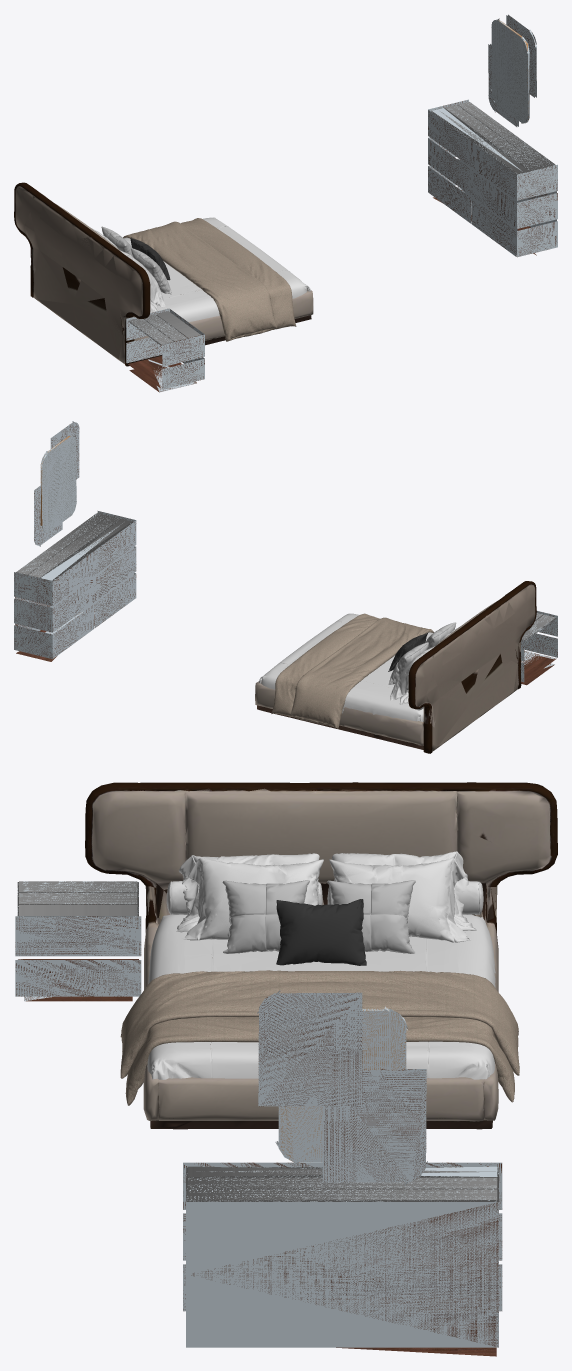
The model's file is turkish-room.glb.
3 renders of one model, top to bottom at view 1: azimuth 30°, elevation 25°; view 2: azimuth 150°, elevation 25°; view 3: azimuth 270°, elevation 25°, orthographic. The views are drawn at different scales.
Visible parts, largest first — view 1: SketchUp_Instance_0, CEWSBVR0160, group_28, group_19, group_3, CEWSBVR0161.001, group_15, group_18, group_22, group_17, group_16, group_21 (+12 smaller); view 2: SketchUp_Instance_0, CEWSBVR0160, group_28, group_19, CEWSBVR0161, group_22, group_15, group_18, group_16, group_17, group_21, group_31 (+10 smaller); view 3: SketchUp_Instance_0, group_27, CEWSBVR0160, group_14, group_26, group_28, CEWSBVR0154, CEWSBVR0152, group_6, group_20, CEWSBVR0154.001, group_7 (+18 smaller).
Boxes of the visible parts, left/top/right/bottom form: SketchUp_Instance_0: left=14, top=182, right=313, bottom=366; CEWSBVR0160: left=123, top=218, right=296, bottom=341; group_28: left=431, top=102, right=555, bottom=174; group_19: left=491, top=20, right=527, bottom=123; group_3: left=128, top=311, right=200, bottom=345; CEWSBVR0161.001: left=150, top=290, right=219, bottom=322; group_15: left=472, top=170, right=516, bottom=228; group_18: left=472, top=198, right=516, bottom=256; group_22: left=472, top=142, right=516, bottom=200; group_17: left=428, top=110, right=471, bottom=167; group_16: left=428, top=138, right=471, bottom=195; group_21: left=428, top=166, right=471, bottom=223; SketchUp_Instance_0: left=255, top=581, right=536, bottom=753; CEWSBVR0160: left=271, top=613, right=433, bottom=728; group_28: left=16, top=513, right=133, bottom=581; group_19: left=42, top=435, right=76, bottom=533; CEWSBVR0161: left=342, top=681, right=423, bottom=721; group_22: left=94, top=520, right=136, bottom=575; group_15: left=94, top=547, right=136, bottom=601; group_18: left=94, top=573, right=136, bottom=628; group_16: left=52, top=578, right=93, bottom=632; group_17: left=52, top=551, right=93, bottom=605; group_21: left=52, top=604, right=93, bottom=658; group_31: left=14, top=598, right=52, bottom=632; SketchUp_Instance_0: left=85, top=782, right=557, bottom=1129; group_27: left=186, top=1202, right=498, bottom=1347; CEWSBVR0160: left=120, top=970, right=519, bottom=1105; group_14: left=257, top=990, right=362, bottom=1106; group_26: left=322, top=1069, right=427, bottom=1185; group_28: left=186, top=1166, right=498, bottom=1201; CEWSBVR0154: left=329, top=858, right=471, bottom=942; CEWSBVR0152: left=276, top=899, right=366, bottom=965; group_6: left=15, top=916, right=141, bottom=956; group_20: left=275, top=1006, right=407, bottom=1163; CEWSBVR0154.001: left=182, top=858, right=323, bottom=940; group_7: left=15, top=960, right=141, bottom=996.
Bounding box in the file's own units: 4.65 × 2.04 × 2.75.
10 materials, 7 textured.
